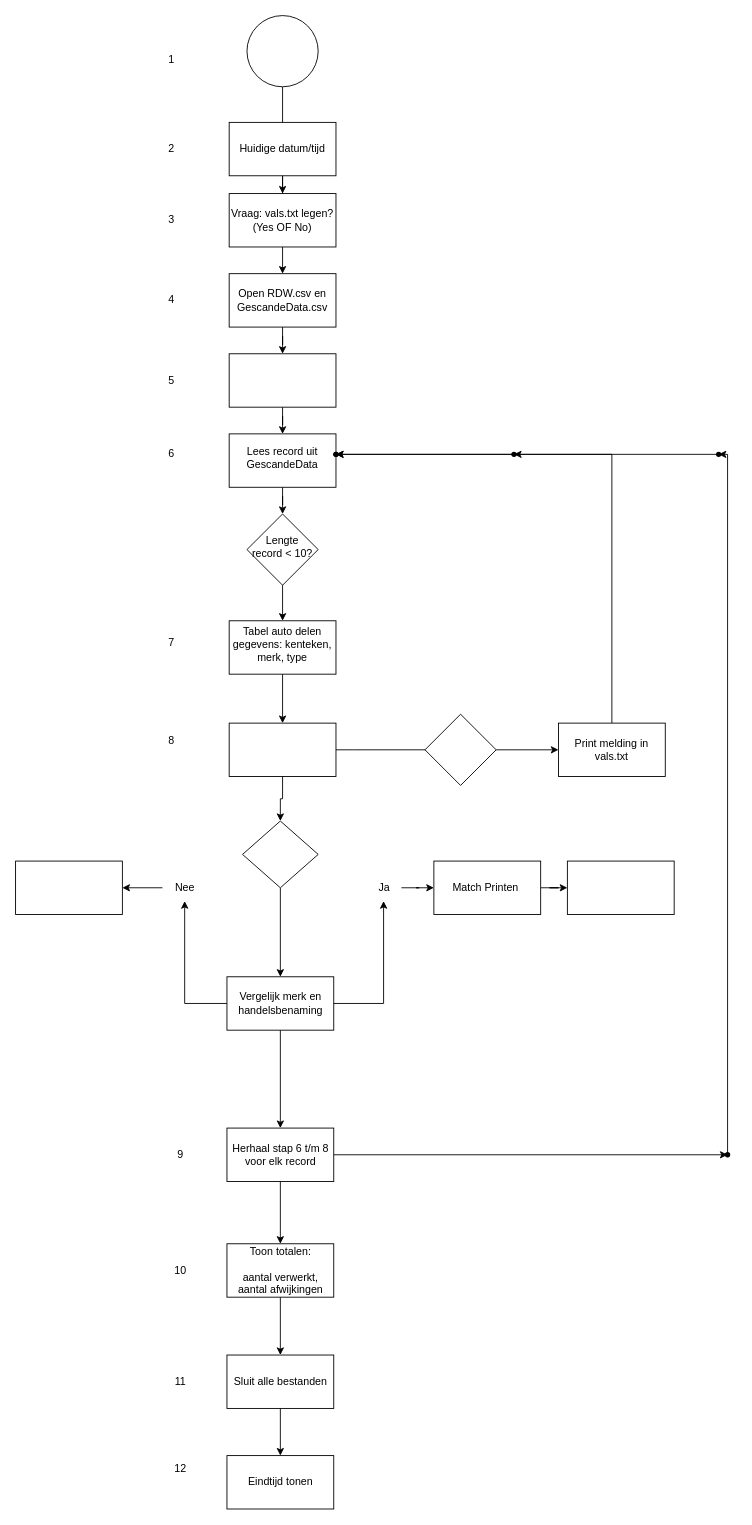
Some shapes in this 752 by 1525 pixel diagram are drawn without their labels. Here are the shapes that lost their labels. From the top down, the centre of each, then its label:
point 282,51: Start
point 282,380: Open of maak vals.txt (w of a)
point 282,749: Zoek kenteken in RDW.csv
point 460,749: Niet gevonden
point 280,854: Wel gevonden
point 68,887: Print vercshil, log in vals.txt
point 620,887: Print dan
